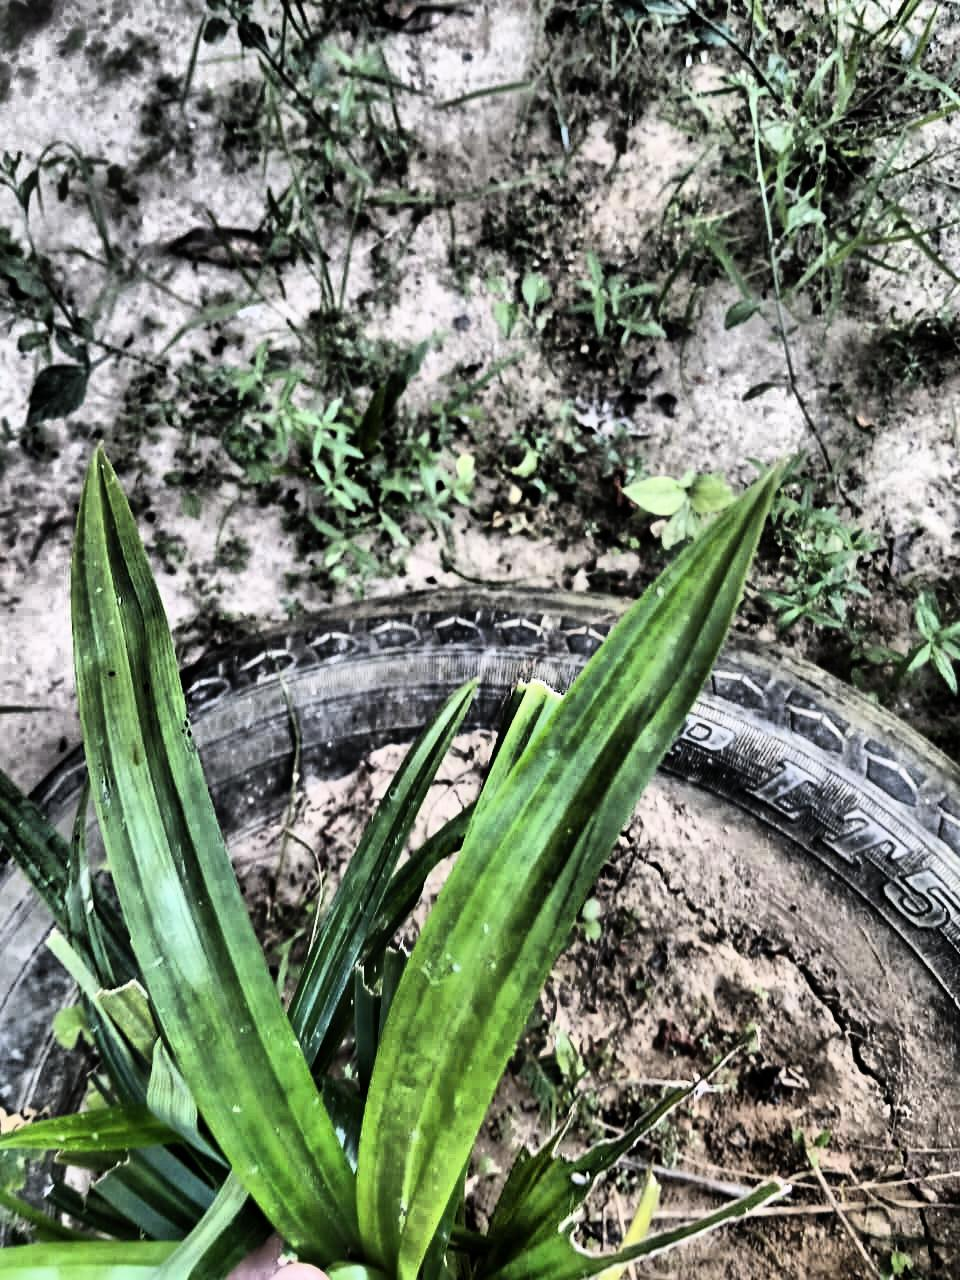daun pandan: (0, 447, 785, 1279)
